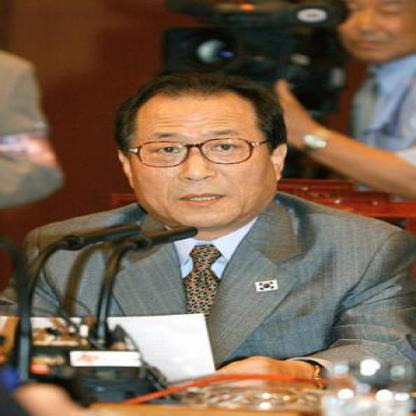face: (128, 75, 276, 230)
